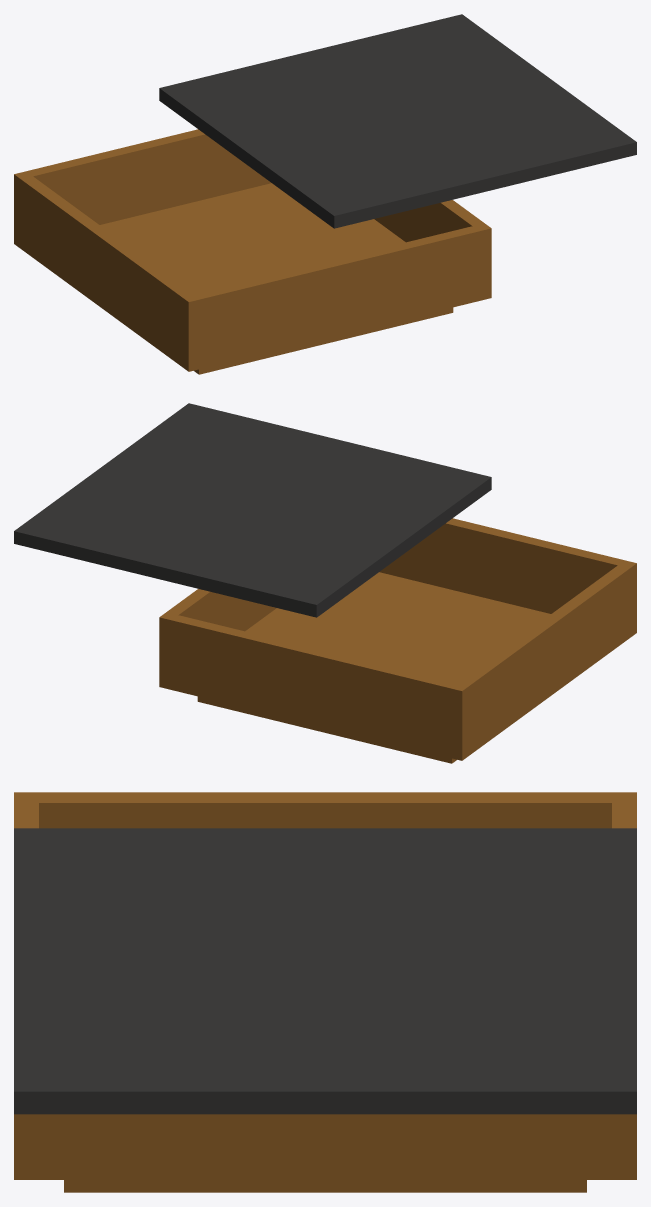
Rendered from boxtable-open.glb.
3 renders of one model, top to bottom at view 1: azimuth 30°, elevation 25°; view 2: azimuth 150°, elevation 25°; view 3: azimuth 270°, elevation 25°, orthographic. The views are drawn at different scales.
Parts seen in each view (by area): view 1: Box, Top, Foot; view 2: Box, Top, Foot; view 3: Top, Box, Foot.
Part boxes in pixels (<box>): Box: <box>14,129,491,371</box>; Top: <box>159,14,636,228</box>; Foot: <box>194,307,453,374</box>; Box: <box>159,518,636,760</box>; Top: <box>14,403,491,617</box>; Foot: <box>197,696,456,763</box>; Top: <box>14,828,636,1114</box>; Box: <box>14,792,636,1179</box>; Foot: <box>64,1180,586,1192</box>.
Size of the model in its own units: 1.88 by 0.5588 by 1.27.
